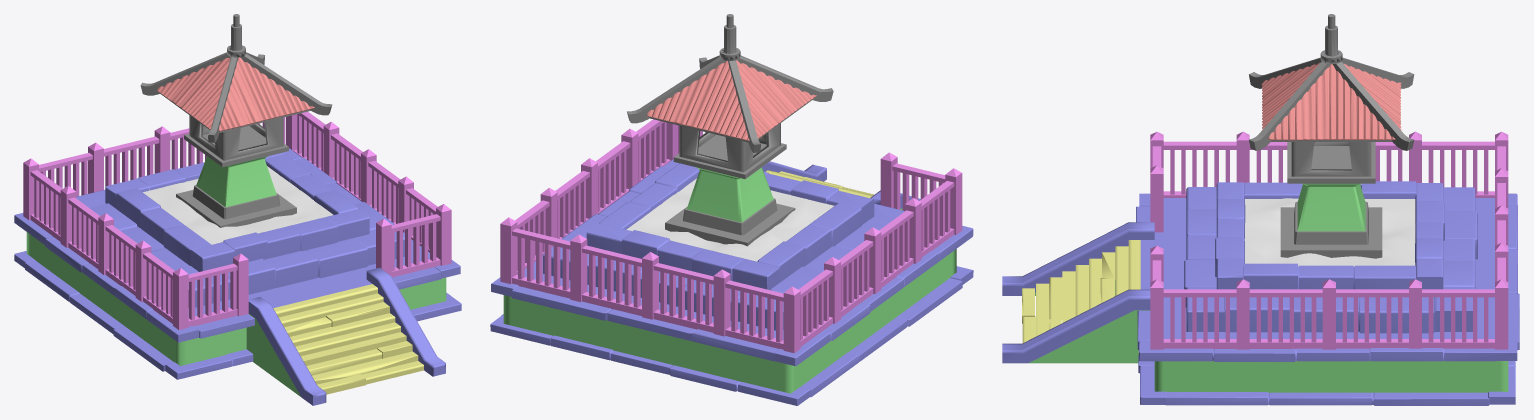
Rendered from SM_ENV_LKNVLD_Building_D_Lod1.gltf.
3 renders of one model, left to right at view 1: azimuth 30°, elevation 25°; view 2: azimuth 150°, elevation 25°; view 3: azimuth 270°, elevation 25°, orthographic. The views are drawn at different scales.
Visible parts, largest first — view 1: SM_ENV_LKNVLD_Building_D_Lod1; view 2: SM_ENV_LKNVLD_Building_D_Lod1; view 3: SM_ENV_LKNVLD_Building_D_Lod1.
Boxes of the visible parts, box(x1,y1,x2,y2) form: SM_ENV_LKNVLD_Building_D_Lod1: box(14, 14, 461, 405); SM_ENV_LKNVLD_Building_D_Lod1: box(490, 14, 973, 405); SM_ENV_LKNVLD_Building_D_Lod1: box(1002, 14, 1519, 405).
Size of the model in its own units: 8.68 by 7.76 by 11.71.
